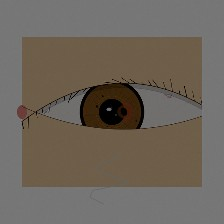foreign_body_visible: (103, 95, 145, 128)
